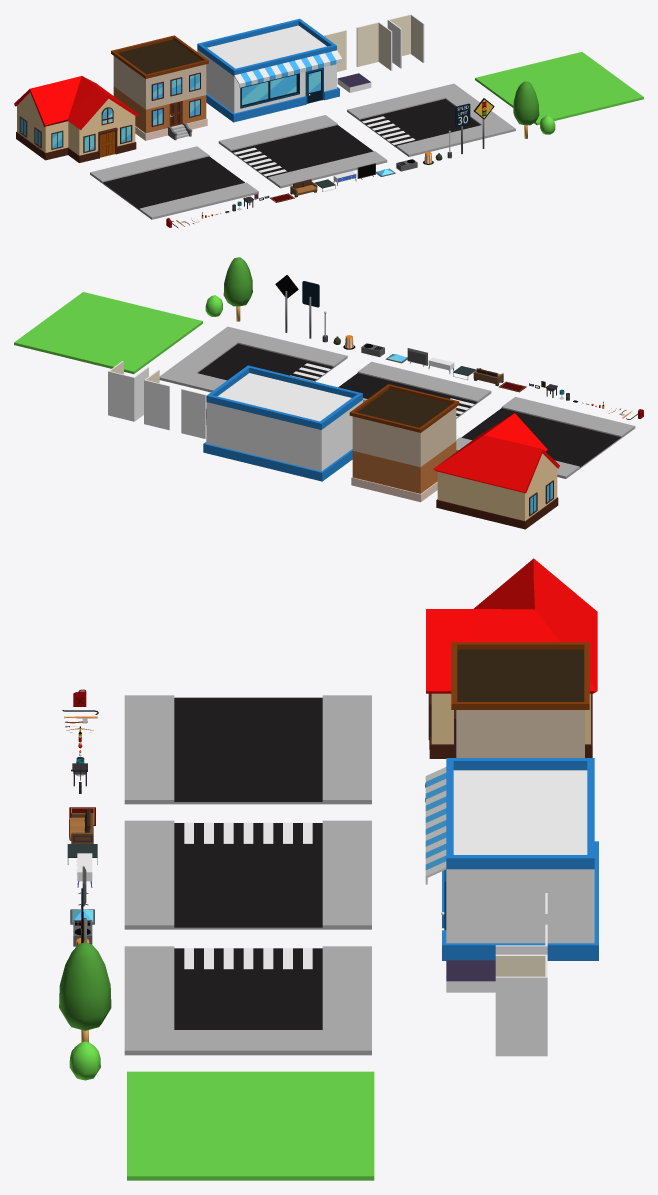
3 renders of one model, top to bottom at view 1: azimuth 30°, elevation 25°; view 2: azimuth 150°, elevation 25°; view 3: azimuth 270°, elevation 25°, orthographic. The views are drawn at different scales.
Parts seen in each view (by area): view 1: Env_CommercialBuilding_01, Env_ResidentBuilding_01, Env_Motel_01, Env_Road_Straight_01, Env_Road_Straight_02, Env_Road_End_02, Env_Road_Grass_01, WallCornor_01, WallCShape_01, Prop_Tree_04, GroundBase_01, Prop_Wall_01 (+3 smaller); view 2: Env_CommercialBuilding_01, Env_Motel_01, Env_ResidentBuilding_01, Env_Road_Grass_01, Env_Road_End_02, Env_Road_Straight_01, Env_Road_Straight_02, WallCShape_01, WallCornor_01, Prop_Tree_04, Prop_Wall_01, Prop_StreetSign_Speed_30 (+1 smaller); view 3: Env_CommercialBuilding_01, Env_Road_Grass_01, Env_Road_End_02, Env_Road_Straight_01, Env_Road_Straight_02, Env_Motel_01, Env_ResidentBuilding_01, WallCShape_01, Prop_Tree_04, GroundBase_01, Prop_Bush_01.
Boxes of the visible parts, x1,y1,x2,y2 form: Env_CommercialBuilding_01: [197, 18, 342, 122]; Env_ResidentBuilding_01: [14, 76, 138, 162]; Env_Motel_01: [111, 35, 208, 140]; Env_Road_Straight_01: [90, 146, 258, 219]; Env_Road_Straight_02: [218, 115, 387, 188]; Env_Road_End_02: [347, 83, 515, 156]; Env_Road_Grass_01: [475, 52, 643, 125]; WallCornor_01: [356, 22, 392, 70]; WallCShape_01: [387, 14, 424, 68]; Prop_Tree_04: [513, 81, 539, 138]; GroundBase_01: [337, 73, 371, 92]; Prop_Wall_01: [324, 30, 346, 71]; Env_CommercialBuilding_01: [203, 365, 367, 481]; Env_Motel_01: [349, 384, 459, 502]; Env_ResidentBuilding_01: [433, 413, 559, 529]; Env_Road_Grass_01: [14, 292, 202, 374]; Env_Road_End_02: [159, 326, 347, 392]; Env_Road_Straight_01: [456, 397, 635, 478]; Env_Road_Straight_02: [338, 361, 491, 418]; WallCShape_01: [108, 361, 148, 421]; WallCornor_01: [144, 369, 169, 429]; Prop_Tree_04: [223, 257, 252, 321]; Prop_Wall_01: [181, 389, 205, 438]; Prop_StreetSign_Speed_30: [302, 281, 319, 338]; Env_CommercialBuilding_01: [425, 758, 598, 960]; Env_Road_Grass_01: [127, 1071, 374, 1180]; Env_Road_End_02: [124, 946, 371, 1055]; Env_Road_Straight_01: [124, 695, 371, 804]; Env_Road_Straight_02: [124, 820, 371, 929]; Env_Motel_01: [425, 642, 589, 802]; Env_ResidentBuilding_01: [426, 558, 597, 758]; WallCShape_01: [495, 954, 547, 1056]; Prop_Tree_04: [59, 942, 111, 1042]; GroundBase_01: [446, 960, 495, 992]; Prop_Bush_01: [69, 1041, 100, 1080].
Bounding box in the file's own units: 47.84 × 5.9 × 21.83.
1 material, 1 textured.
